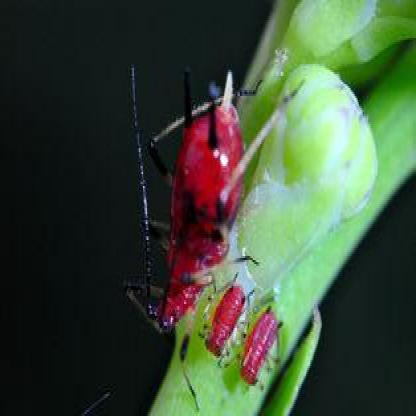aphid: (122, 56, 256, 334), (195, 259, 252, 367), (236, 296, 288, 394)
